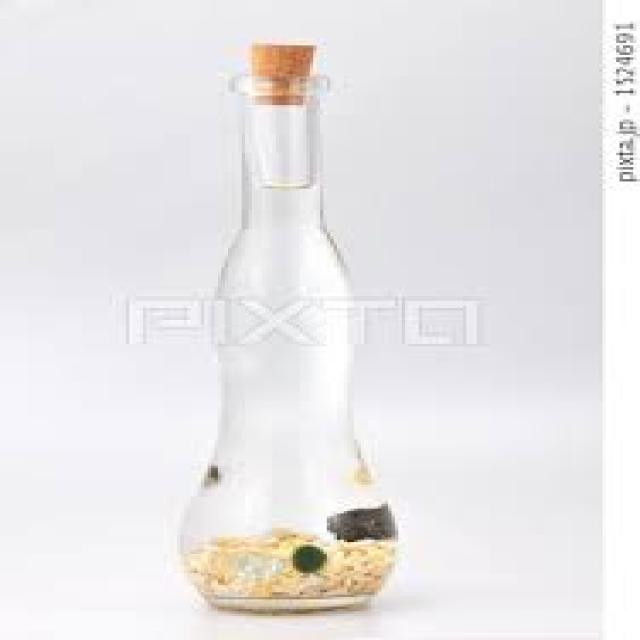glass: (181, 74, 392, 614)
